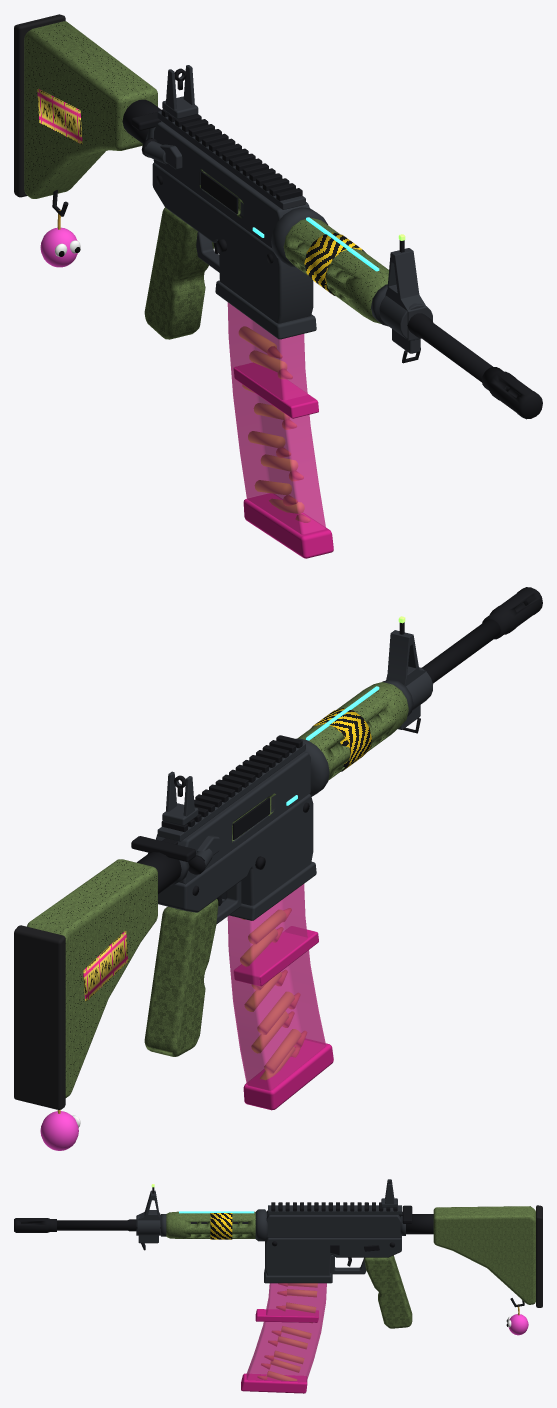
3 views of the same model, one above another, from view 1: azimuth 30°, elevation 25°; view 2: azimuth 150°, elevation 25°; view 3: azimuth 270°, elevation 25° (orthographic). The views are drawn at different scales.
Parts seen in each view (by area): view 1: ar_body_wzA__ar_gunmetal__m2c3036, ar_body_wzA__ar_olive__p5c723f, mag_wzB__ar_mag__gff3fae9e, ar_body_wzB__ar_dark__p141519, ar_body_wzA__ar_grip__p506337, mag_wzB__ar_magbase__pd81f8c, ar_body_wzB__ar_gunmetal__m2c3036, mag_wzB__ar_brass__se0ad3c, ar_body_wzA__ar_rubber__p1c1c1e, ar_body_wzN__ar_sticker__pd08c50, ar_body_wzN__ar_tape__p897317, ar_body_wzN__ar_charm__pff4fd8 (+1 smaller); view 2: ar_body_wzA__ar_gunmetal__m2c3036, ar_body_wzA__ar_olive__p5c723f, mag_wzB__ar_mag__gff3fae9e, ar_body_wzA__ar_rubber__p1c1c1e, ar_body_wzB__ar_dark__p141519, ar_body_wzA__ar_grip__p506337, mag_wzB__ar_magbase__pd81f8c, mag_wzB__ar_brass__se0ad3c, ar_body_wzB__ar_gunmetal__m2c3036, ar_body_wzN__ar_sticker__pd08c50, ar_body_wzN__ar_tape__p897317, ar_body_wzN__ar_charm__pff4fd8 (+1 smaller); view 3: ar_body_wzA__ar_gunmetal__m2c3036, ar_body_wzA__ar_olive__p5c723f, mag_wzB__ar_mag__gff3fae9e, ar_body_wzB__ar_dark__p141519, ar_body_wzA__ar_grip__p506337, mag_wzB__ar_magbase__pd81f8c, mag_wzB__ar_brass__se0ad3c, ar_body_wzB__ar_gunmetal__m2c3036, ar_body_wzA__ar_rubber__p1c1c1e, ar_body_wzN__ar_tape__p897317, ar_body_wzN__ar_charm__pff4fd8, mag_wzB__ar_copper__sc8683a.
Boxes of the visible parts, <box> form: ar_body_wzA__ar_gunmetal__m2c3036: <box>144,65,327,339</box>; ar_body_wzA__ar_olive__p5c723f: <box>24,21,388,323</box>; mag_wzB__ar_mag__gff3fae9e: <box>227,302,325,534</box>; ar_body_wzB__ar_dark__p141519: <box>52,68,542,419</box>; ar_body_wzA__ar_grip__p506337: <box>144,207,214,339</box>; mag_wzB__ar_magbase__pd81f8c: <box>233,362,333,558</box>; ar_body_wzB__ar_gunmetal__m2c3036: <box>179,73,432,353</box>; mag_wzB__ar_brass__se0ad3c: <box>239,326,304,513</box>; ar_body_wzA__ar_rubber__p1c1c1e: <box>14,14,65,197</box>; ar_body_wzN__ar_sticker__pd08c50: <box>37,88,82,144</box>; ar_body_wzN__ar_tape__p897317: <box>304,232,365,295</box>; ar_body_wzN__ar_charm__pff4fd8: <box>40,227,77,267</box>; ar_body_wzA__ar_gunmetal__m2c3036: <box>148,738,329,924</box>; ar_body_wzA__ar_olive__p5c723f: <box>27,682,408,1097</box>; mag_wzB__ar_mag__gff3fae9e: <box>227,884,325,1090</box>; ar_body_wzA__ar_rubber__p1c1c1e: <box>14,925,65,1109</box>; ar_body_wzB__ar_dark__p141519: <box>137,587,542,905</box>; ar_body_wzA__ar_grip__p506337: <box>144,899,218,1056</box>; mag_wzB__ar_magbase__pd81f8c: <box>234,929,333,1110</box>; mag_wzB__ar_brass__se0ad3c: <box>240,910,301,1079</box>; ar_body_wzB__ar_gunmetal__m2c3036: <box>176,630,432,785</box>; ar_body_wzN__ar_sticker__pd08c50: <box>83,930,128,1001</box>; ar_body_wzN__ar_tape__p897317: <box>311,708,371,771</box>; ar_body_wzN__ar_charm__pff4fd8: <box>40,1111,78,1150</box>; ar_body_wzA__ar_gunmetal__m2c3036: <box>255,1179,405,1283</box>; ar_body_wzA__ar_olive__p5c723f: <box>166,1206,535,1304</box>; mag_wzB__ar_mag__gff3fae9e: <box>246,1283,326,1382</box>; ar_body_wzB__ar_dark__p141519: <box>14,1182,524,1307</box>; ar_body_wzA__ar_grip__p506337: <box>364,1255,412,1328</box>; mag_wzB__ar_magbase__pd81f8c: <box>241,1309,318,1393</box>; mag_wzB__ar_brass__se0ad3c: <box>267,1283,317,1380</box>; ar_body_wzB__ar_gunmetal__m2c3036: <box>136,1190,166,1243</box>; ar_body_wzA__ar_rubber__p1c1c1e: <box>536,1205,542,1307</box>; ar_body_wzN__ar_tape__p897317: <box>210,1213,232,1239</box>; ar_body_wzN__ar_charm__pff4fd8: <box>508,1314,528,1335</box>; mag_wzB__ar_copper__sc8683a: <box>257,1283,287,1379</box>.
Size of the model in its own units: 0.0837 by 0.5172 by 1.19.
16 materials, 4 textured.
